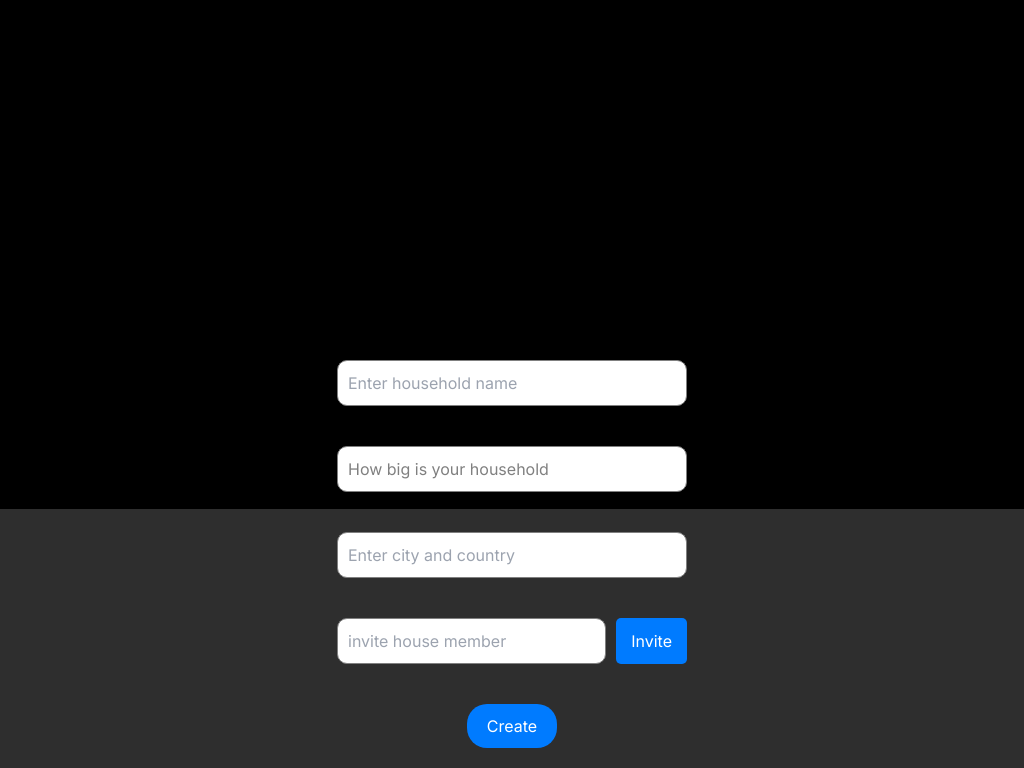
Test case: CreateHouseHold Component › Email Interactions › shows error for duplicate email
(page scrolled)
Step 1. Type "test@email.com" into the field with placeholder "invite house member" → (472, 641), box [337, 618, 606, 664]
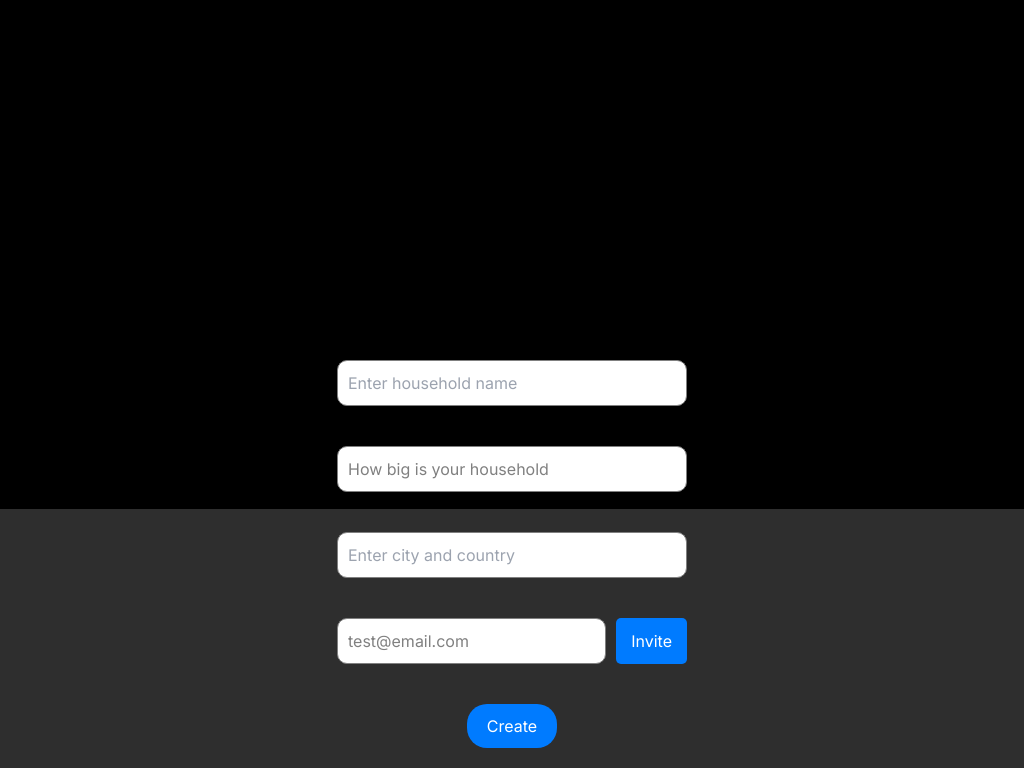
Step 2. Click the button "Invite" → (652, 641), box [616, 618, 687, 664]
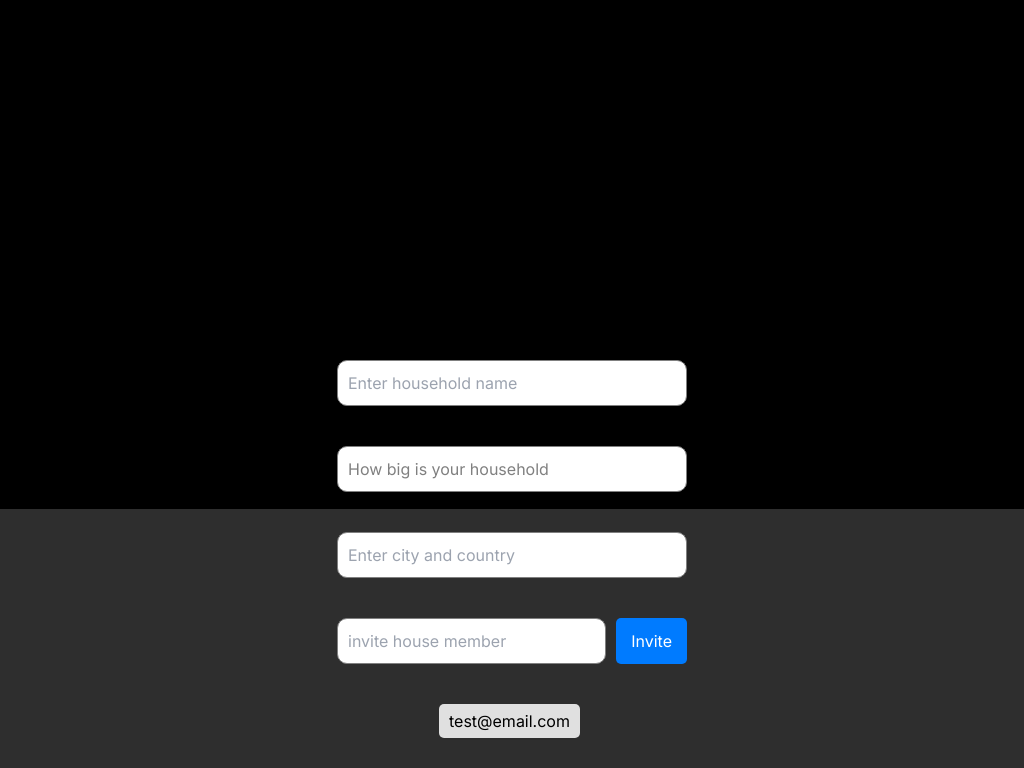
Try adding the same email again
Step 3. Type "test@email.com" into the field with placeholder "invite house member" → (472, 641), box [337, 618, 606, 664]
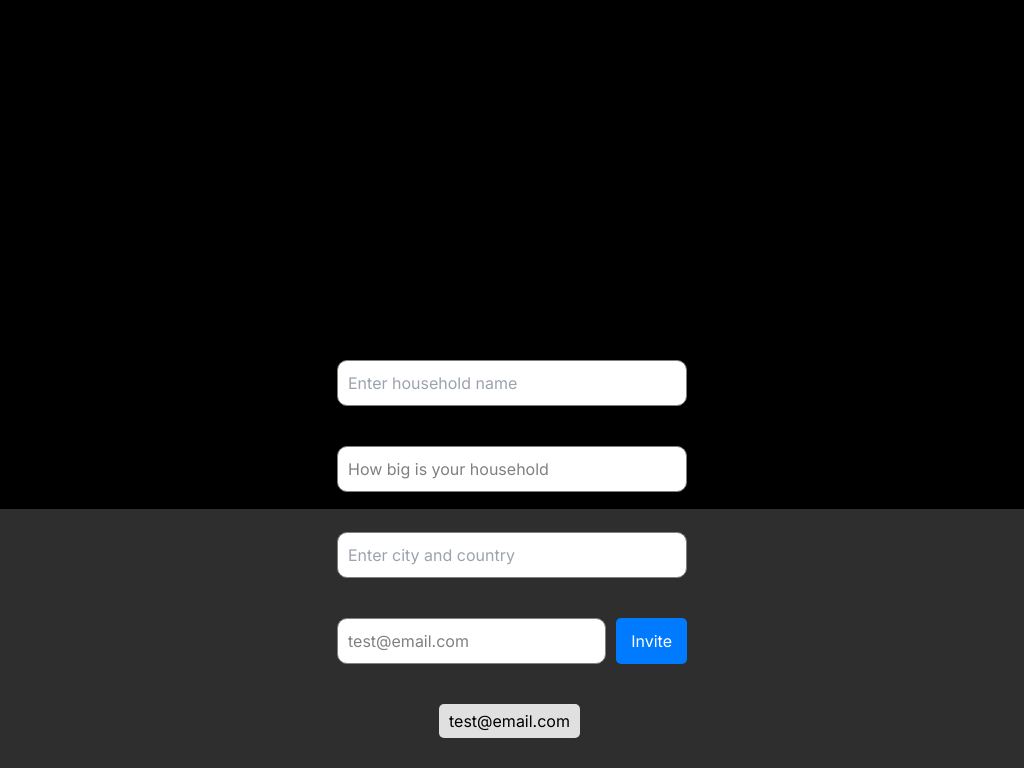
Step 4. Click the button "Invite" → (652, 641), box [616, 618, 687, 664]
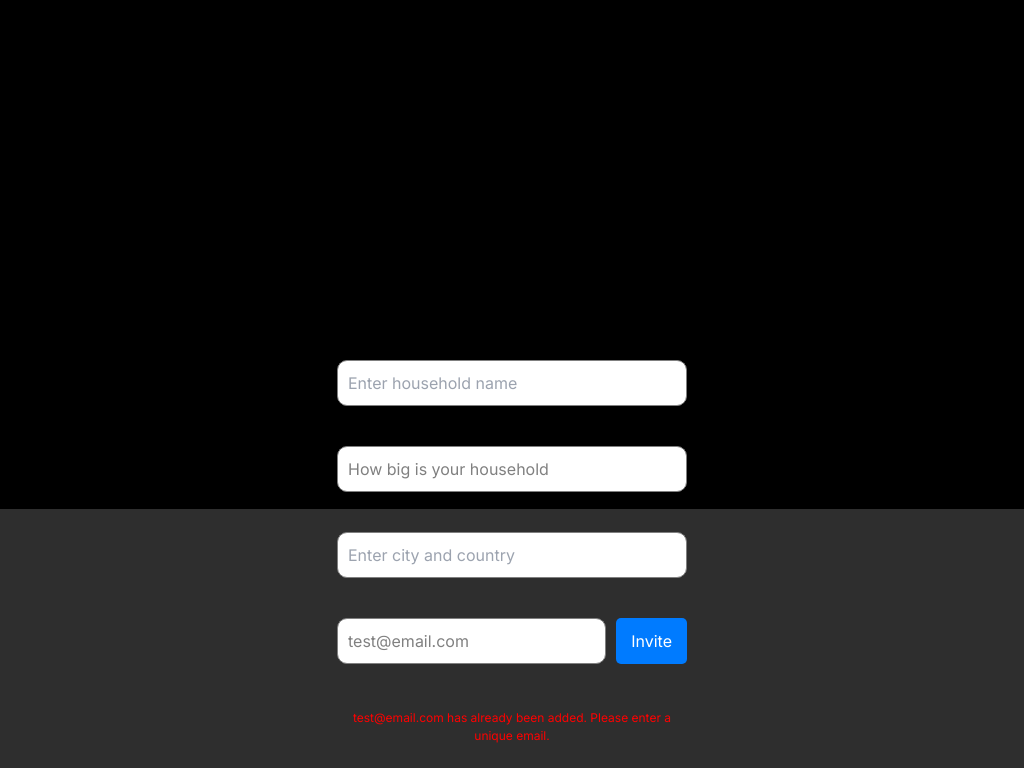
Check: the text "test@email.com has already been added. Please enter a unique email." is shown, box [337, 709, 687, 745]
